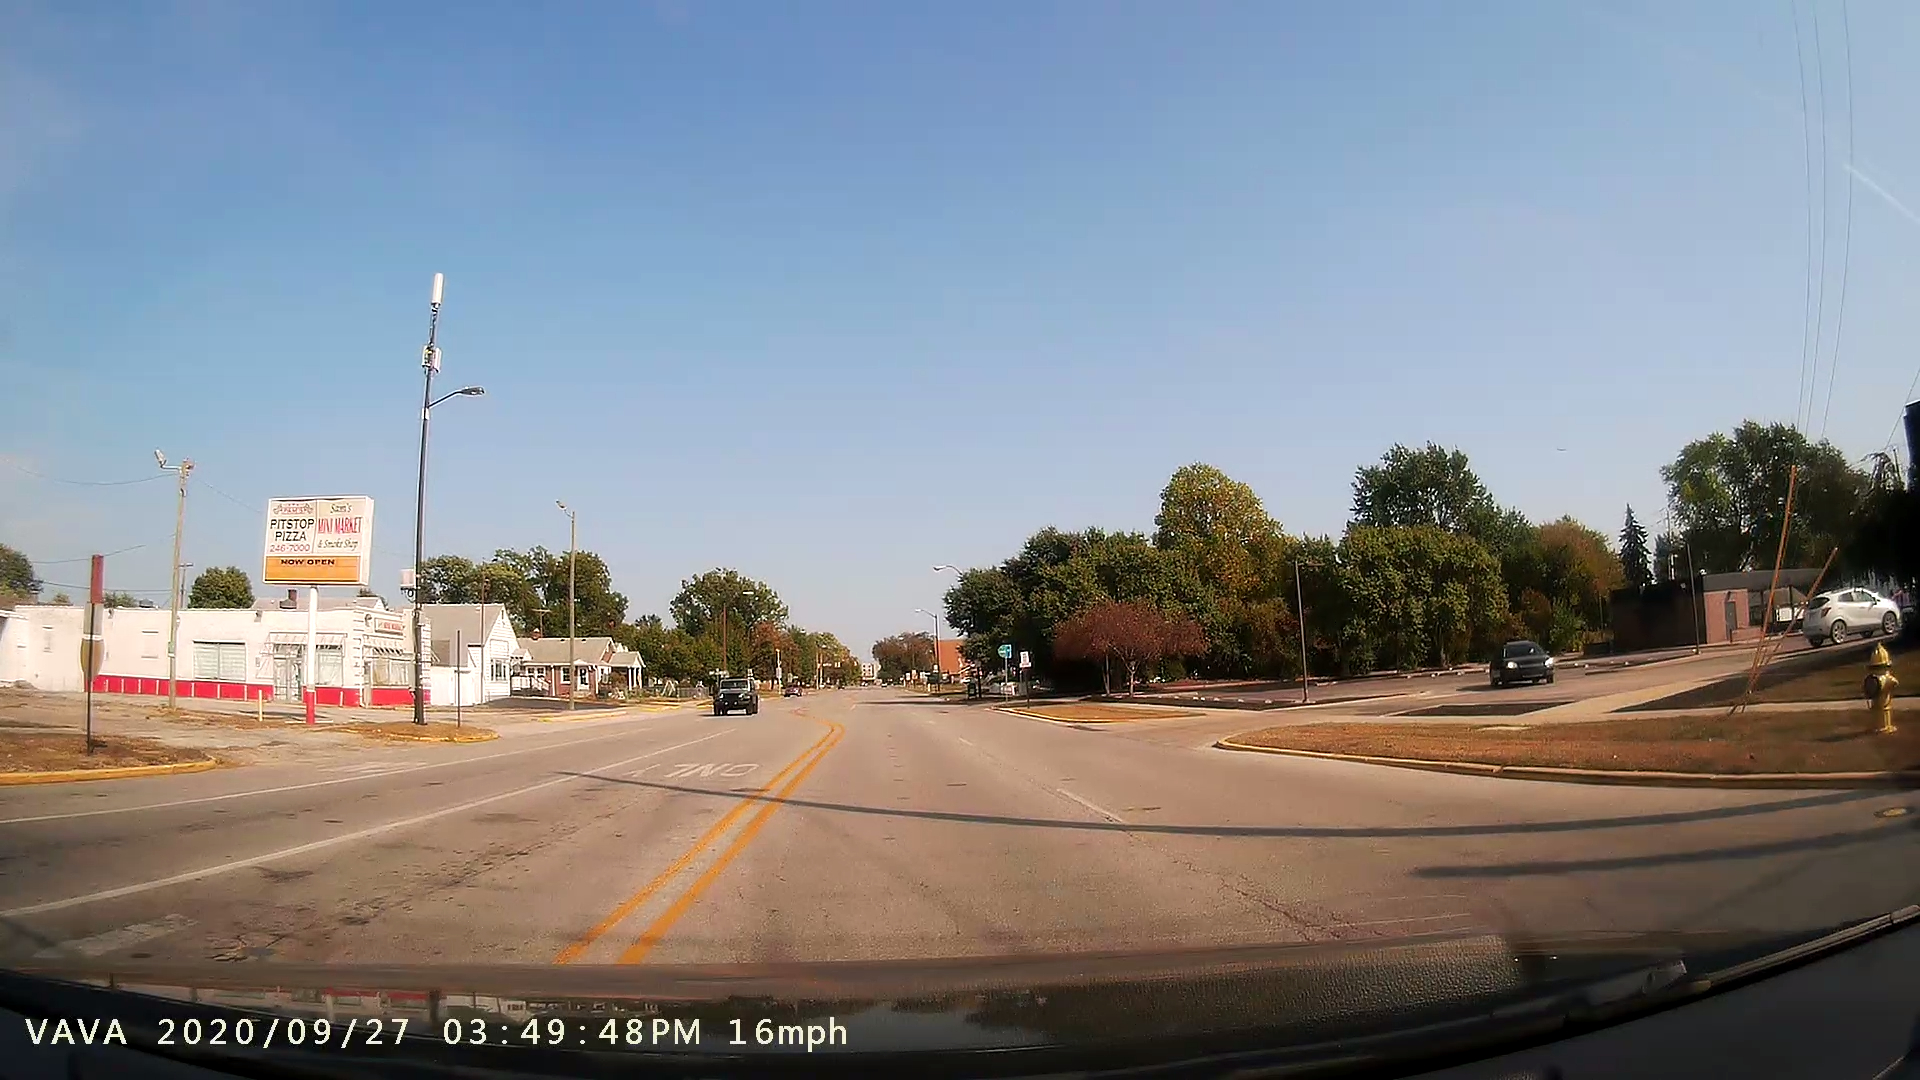fire_hydrant: (1844, 629, 1907, 742)
